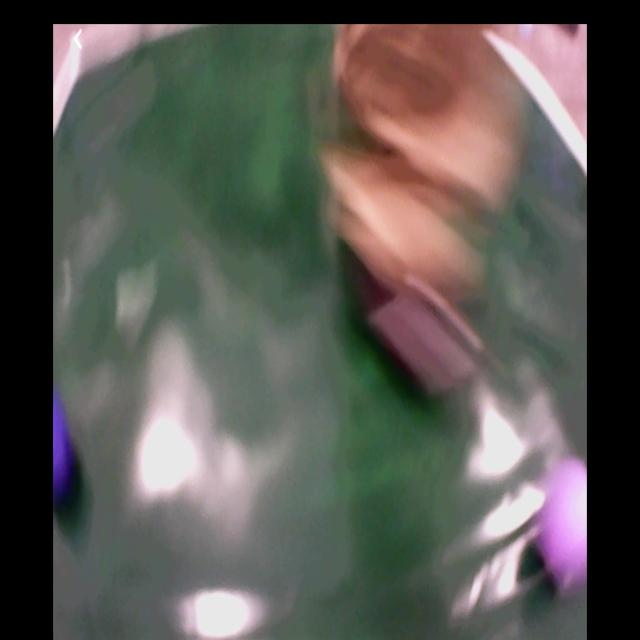ball: (539, 456, 588, 594), (53, 398, 74, 504)
